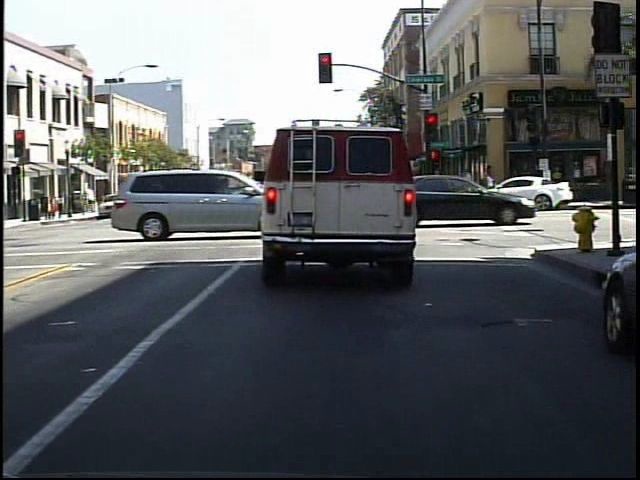person: (525, 158, 547, 208), (507, 162, 527, 206)
